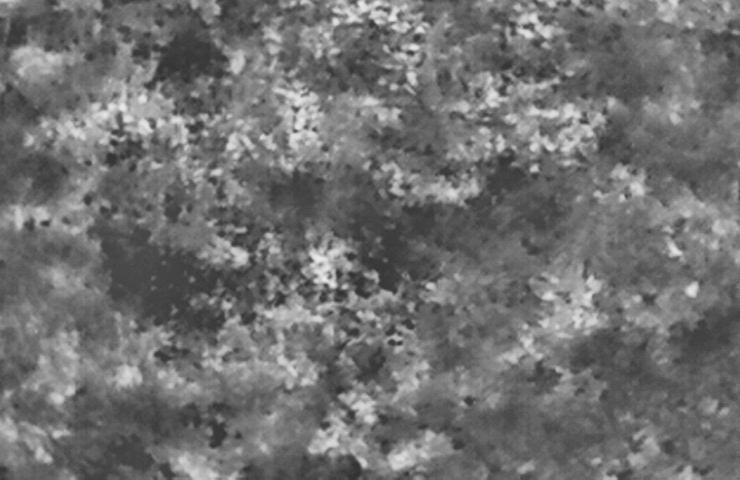landmines: (306, 240, 350, 284)
